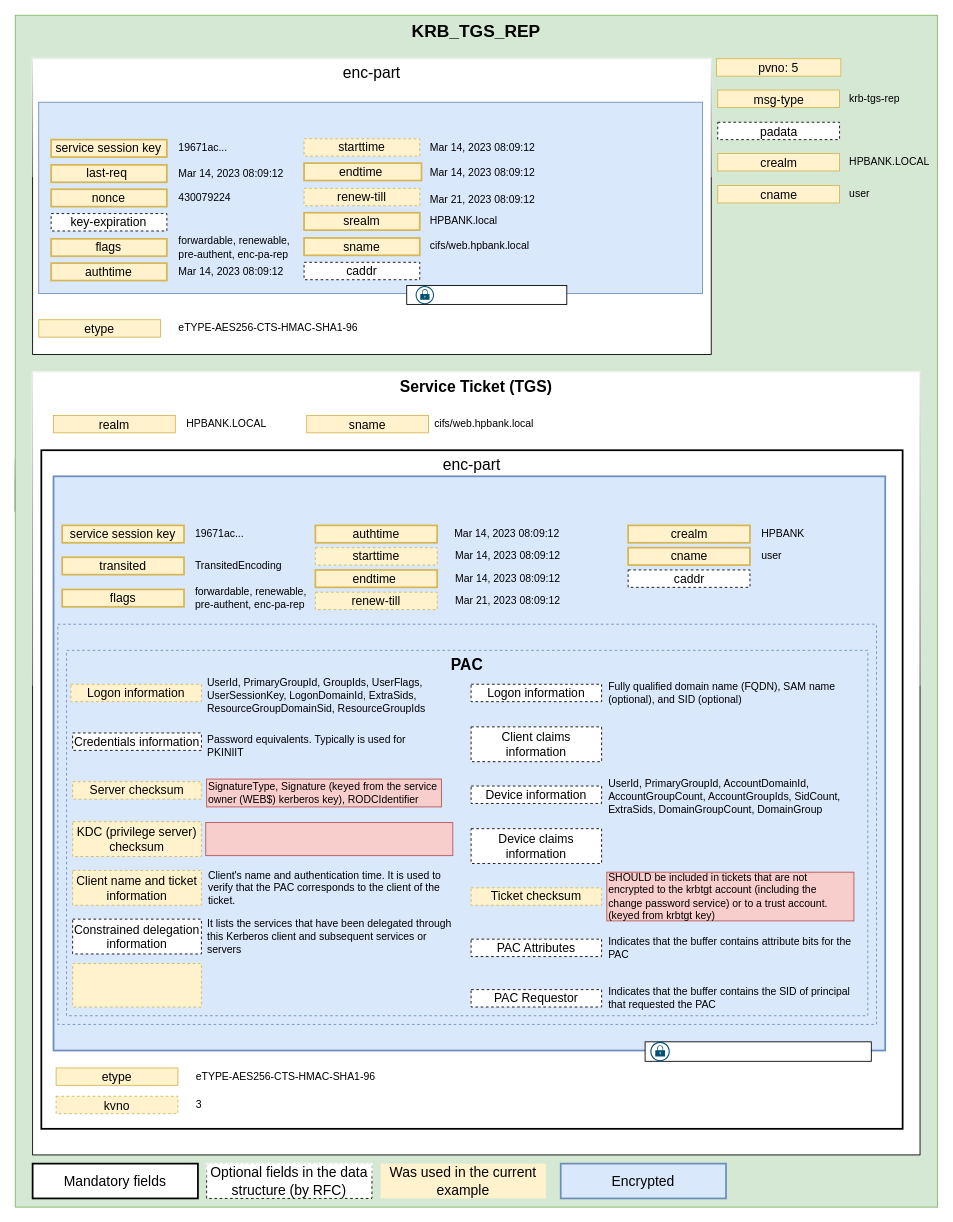
Some shapes in this 953 by 1222 pixel diagram are drawn without their labels. The shapes that lost their labels are listed below. From the top down, each one's box as (x1, y1, x2, y2) in pixels, then its label:
(38, 101, 703, 294): EncTGSRepPart
(406, 285, 567, 304): user logon session key
(52, 475, 886, 1051): encTicketPart
(205, 822, 453, 856): SignatureType, Signature (keyed from the krbtgt kerberos key), RODCIdentifier
(57, 623, 877, 1024): authorization-data
(72, 963, 201, 1007): User Principal Name and Domain Name System Information
(644, 1041, 871, 1061): service owner (WEB$) kerberos key
